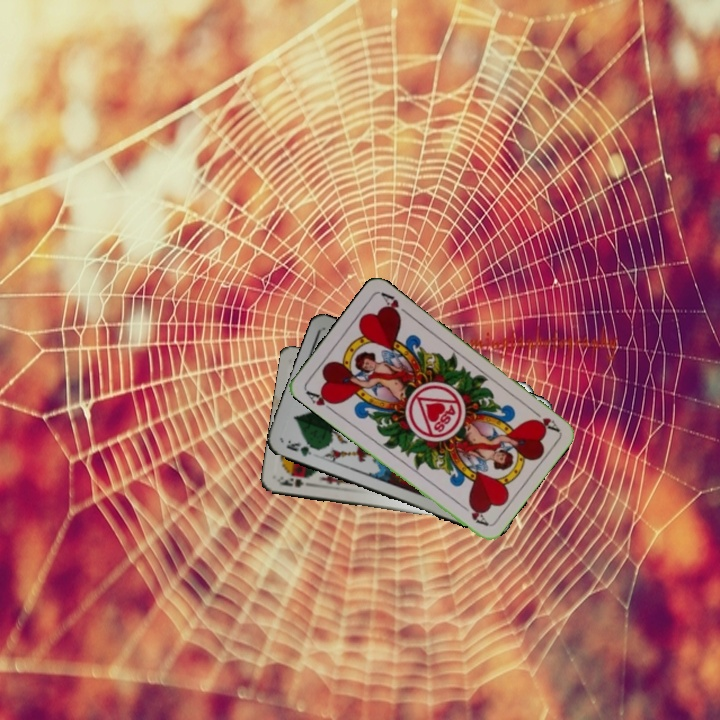GK: (282, 436, 321, 459)
HA: (526, 404, 562, 434), (302, 386, 339, 415)
SK: (275, 471, 316, 490)
